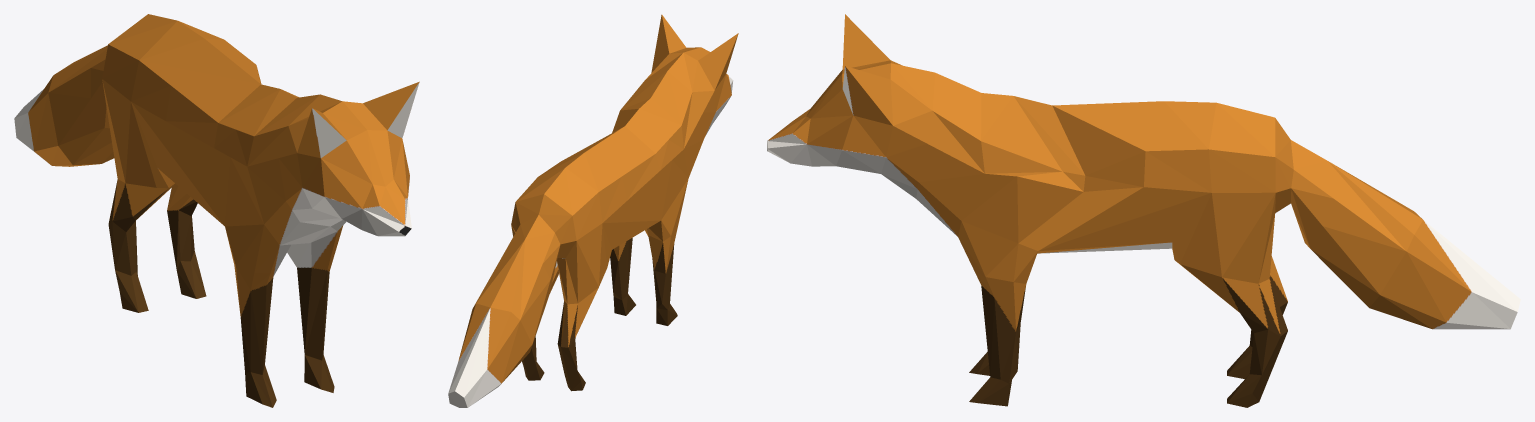
The model's file is Fox.glb.
3 views of the same model, side by side, from view 1: azimuth 30°, elevation 25°; view 2: azimuth 150°, elevation 25°; view 3: azimuth 270°, elevation 25° (orthographic). The views are drawn at different scales.
Parts seen in each view (by area): view 1: fox1; view 2: fox1; view 3: fox1.
Boxes of the visible parts, box(x1,y1,x2,y2) form: fox1: box(14, 14, 419, 407); fox1: box(448, 14, 738, 407); fox1: box(767, 14, 1520, 407).
Bounding box in the file's own units: 2.63 × 8.24 × 16.13.
1 material, 1 textured.
